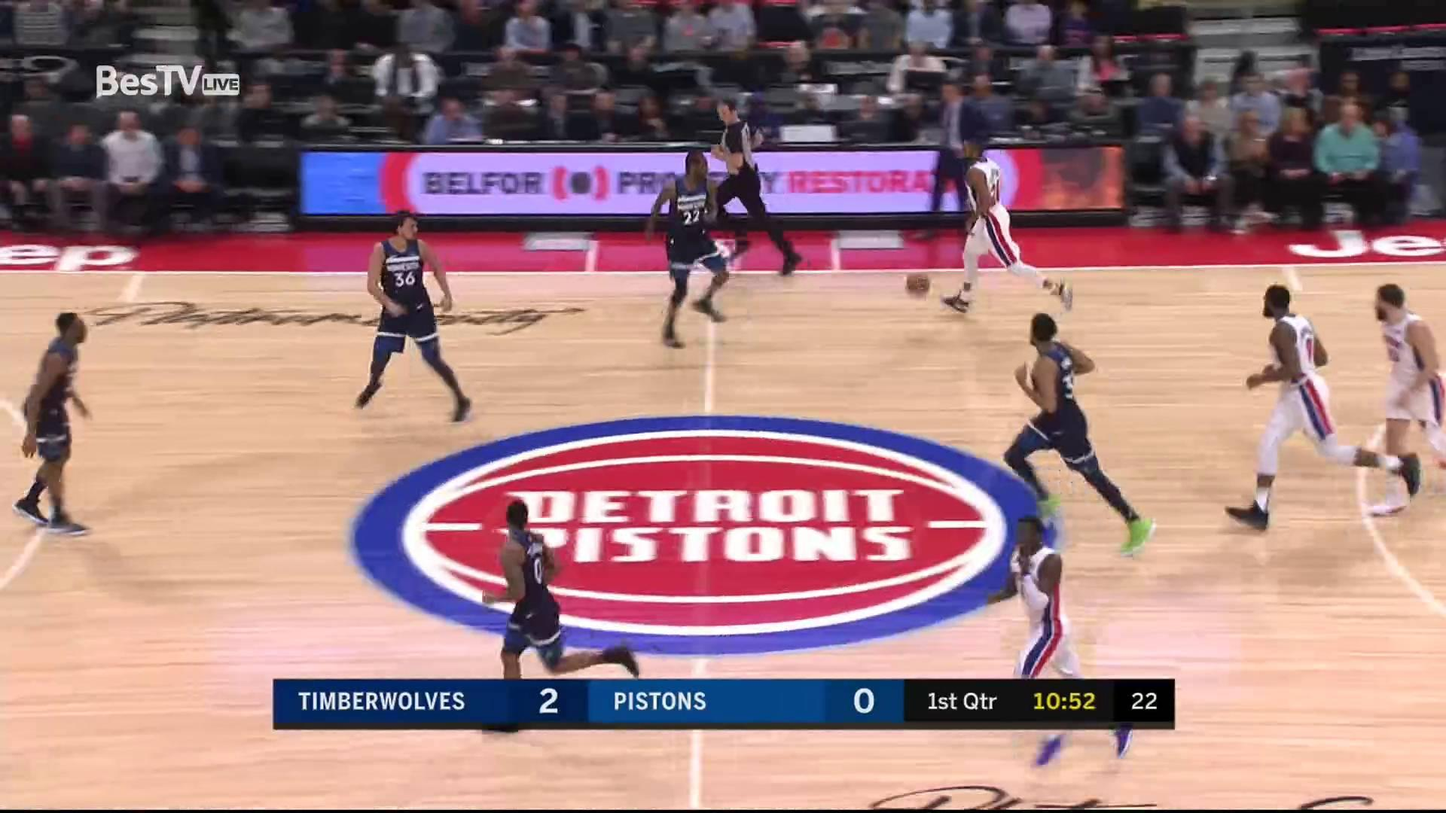basketball: (902, 276, 934, 298)
